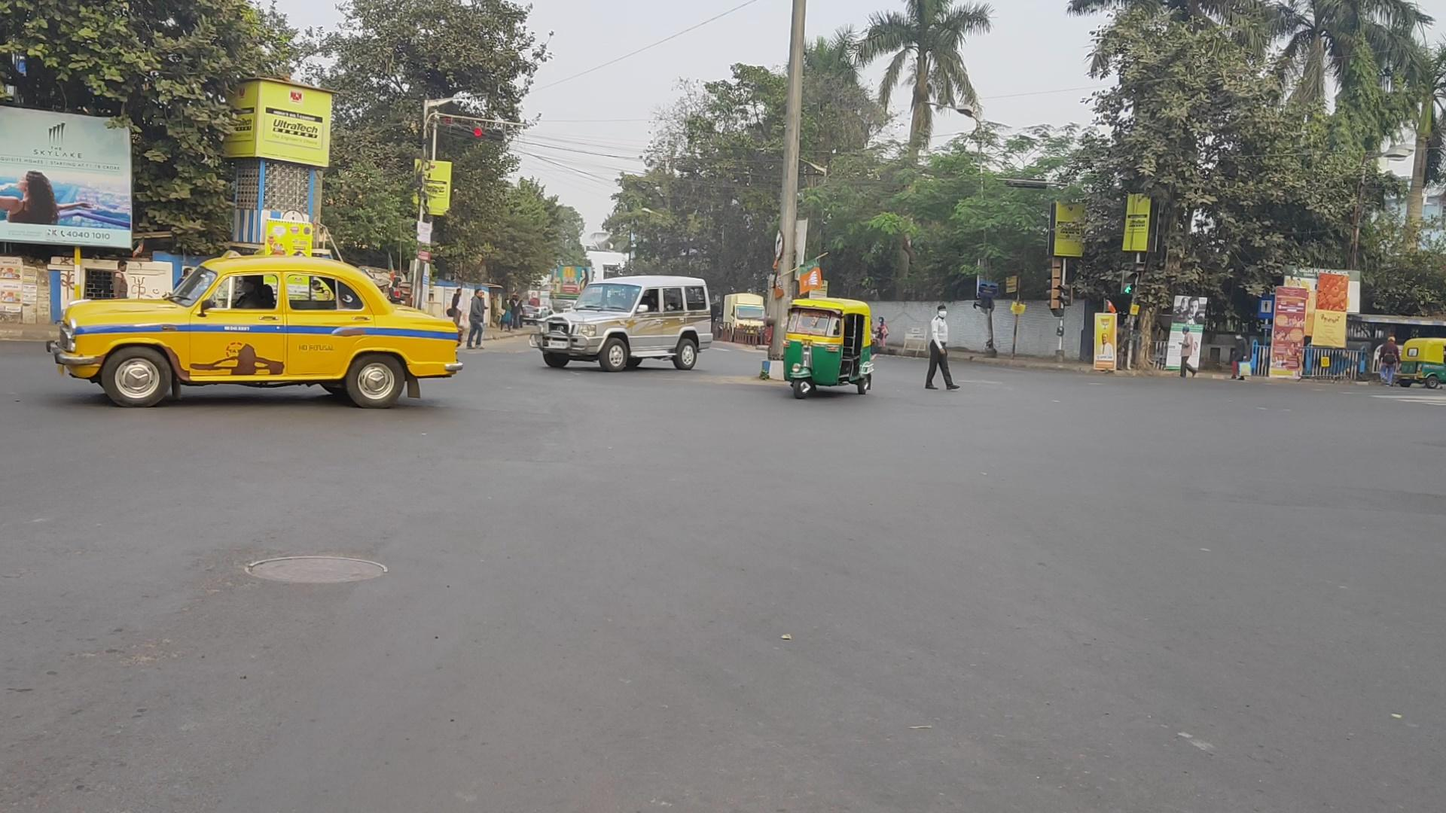Auto: (782, 297, 874, 399), (1399, 337, 1446, 389)
car: (46, 250, 464, 409), (529, 275, 713, 370)
van: (722, 293, 766, 345)
